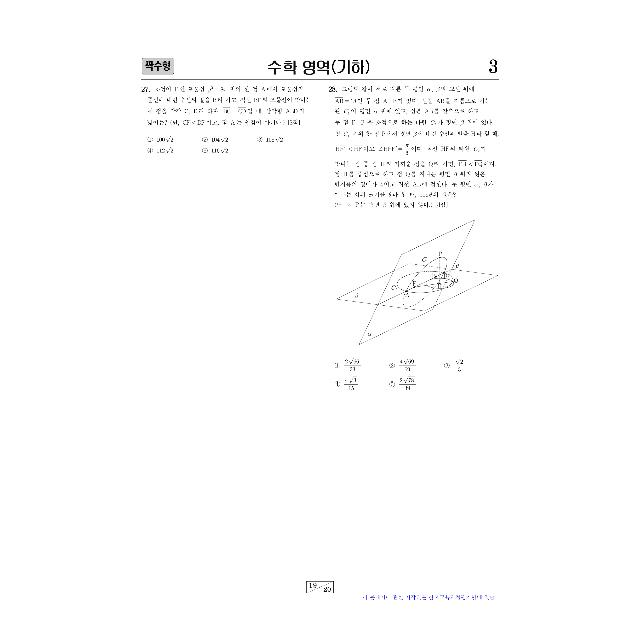multiple: (324, 83, 506, 401), (136, 81, 316, 167)
